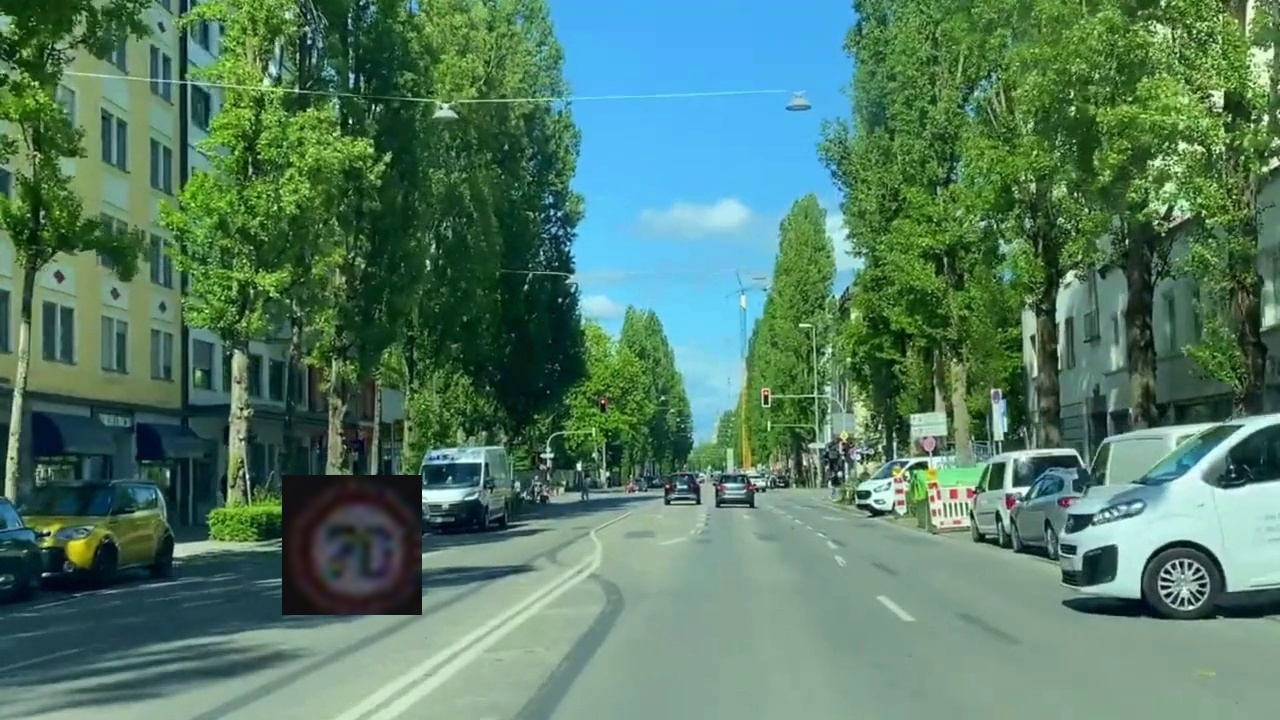Speed 70: (282, 475, 422, 615)
